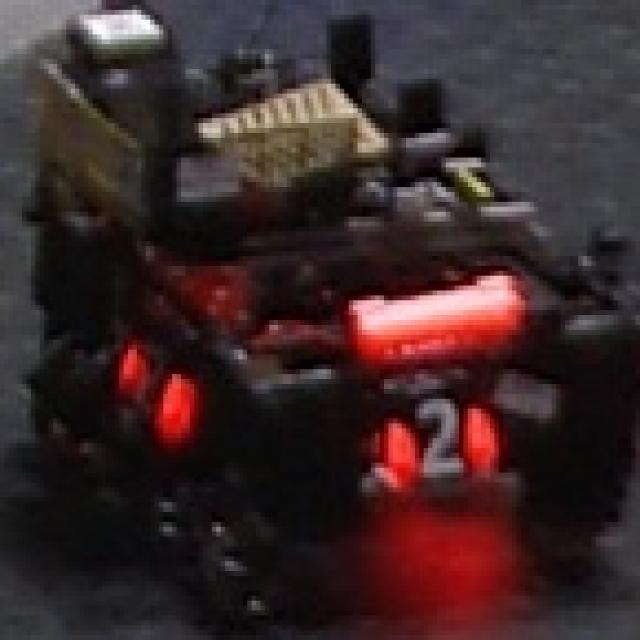R2: (373, 391, 505, 490), (106, 330, 194, 428)
